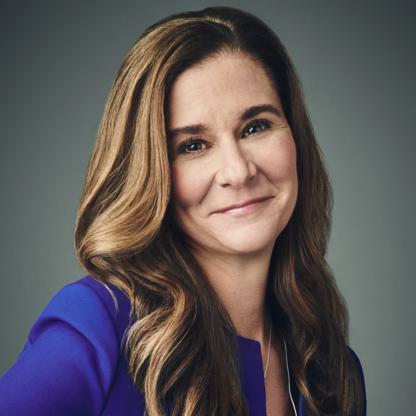Sober: (163, 52, 295, 251)
